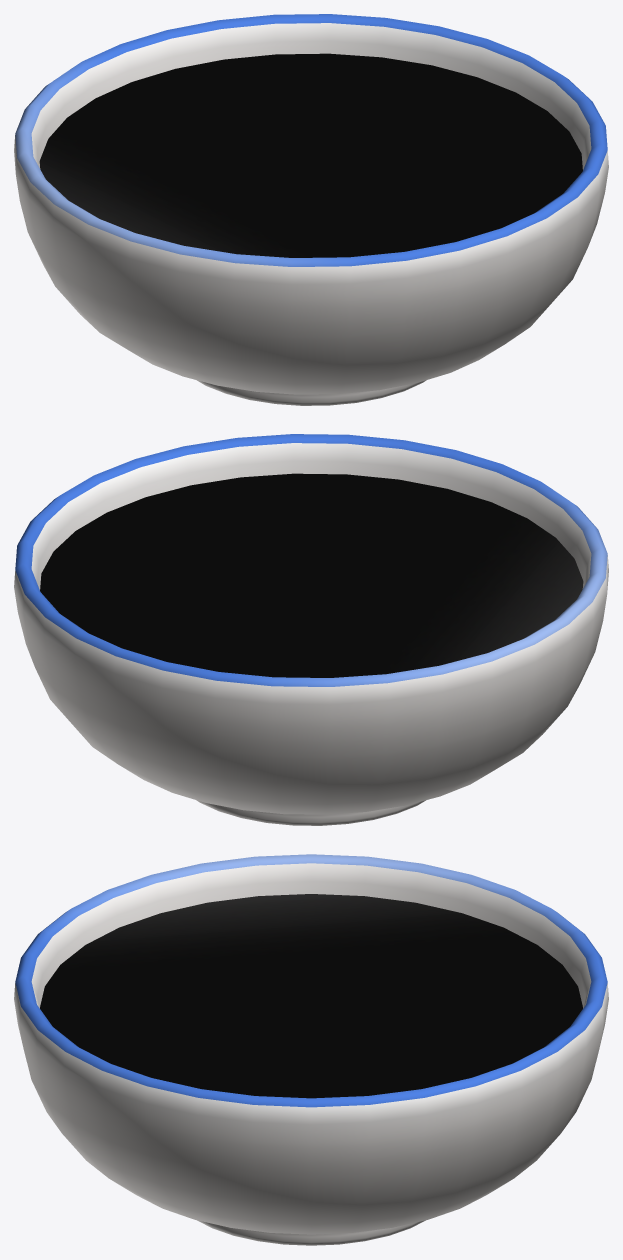
File: SoupBurnt.glb
3 views of the same model, one above another, from view 1: azimuth 30°, elevation 25°; view 2: azimuth 150°, elevation 25°; view 3: azimuth 270°, elevation 25° (orthographic).
Parts seen in each view (by area): view 1: SoupBurnt; view 2: SoupBurnt; view 3: SoupBurnt.
Part boxes in pixels (<box>): SoupBurnt: <box>14,14,608,405</box>; SoupBurnt: <box>14,434,608,825</box>; SoupBurnt: <box>14,854,608,1245</box>.
Size of the model in its own units: 0.3116 by 0.1239 by 0.3116.
1 material, 1 textured.
